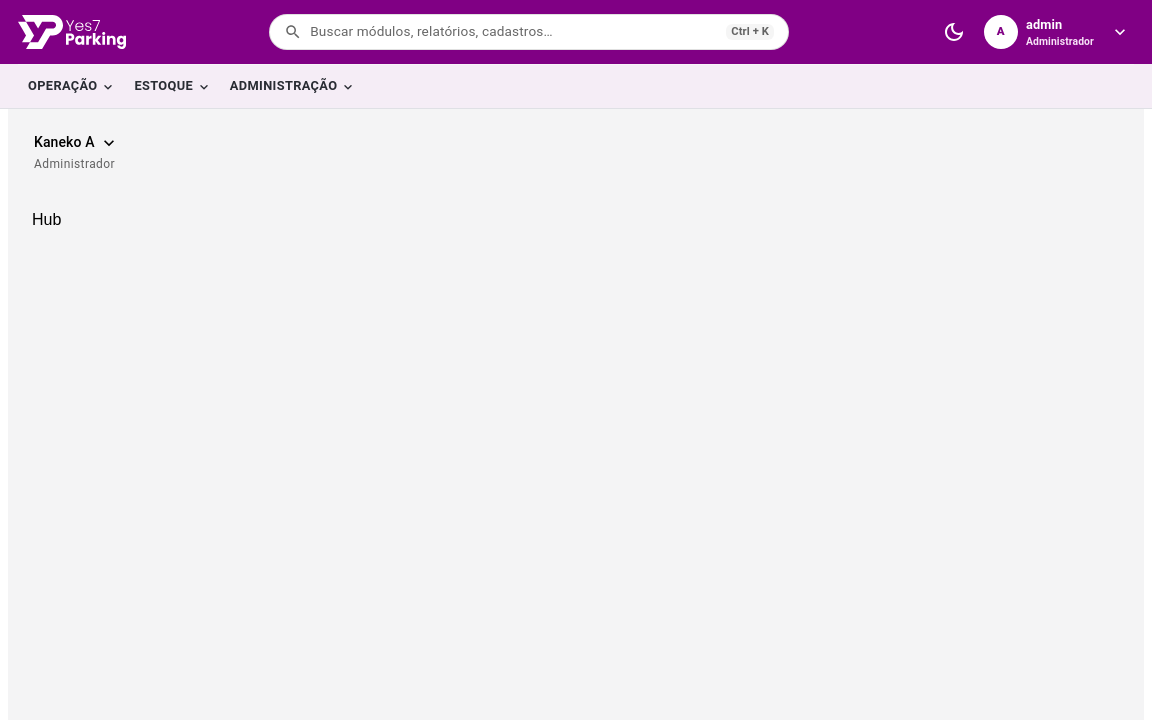
AppLayout › mantém o menu Contexto operacional acima do cabeçalho
Step 1. Click the button with aria-label "Contexto operacional" → (76, 154), box top-left (24, 124), bottom-right (129, 183)
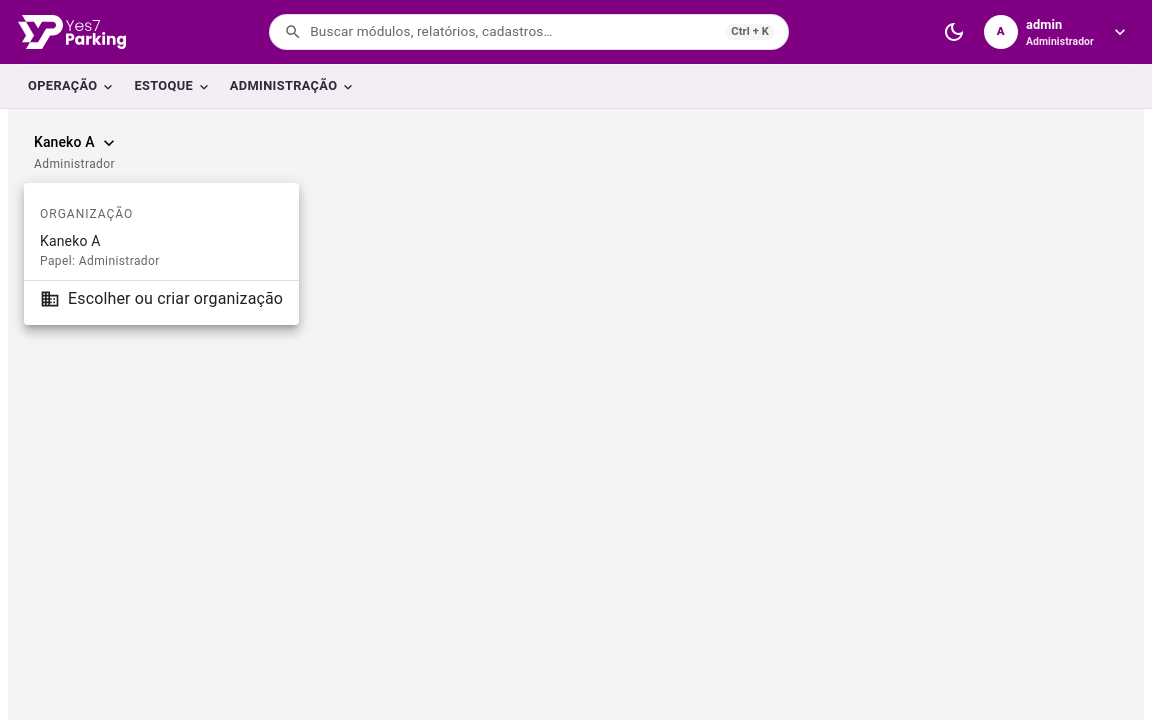
Expected: the element that starts with "Organização" is shown
Expected: the menu item "Escolher ou criar organização" is shown, top-left (40, 289), bottom-right (283, 309)
Step 2. Press Escape in the menu, box top-left (24, 183), bottom-right (299, 325)
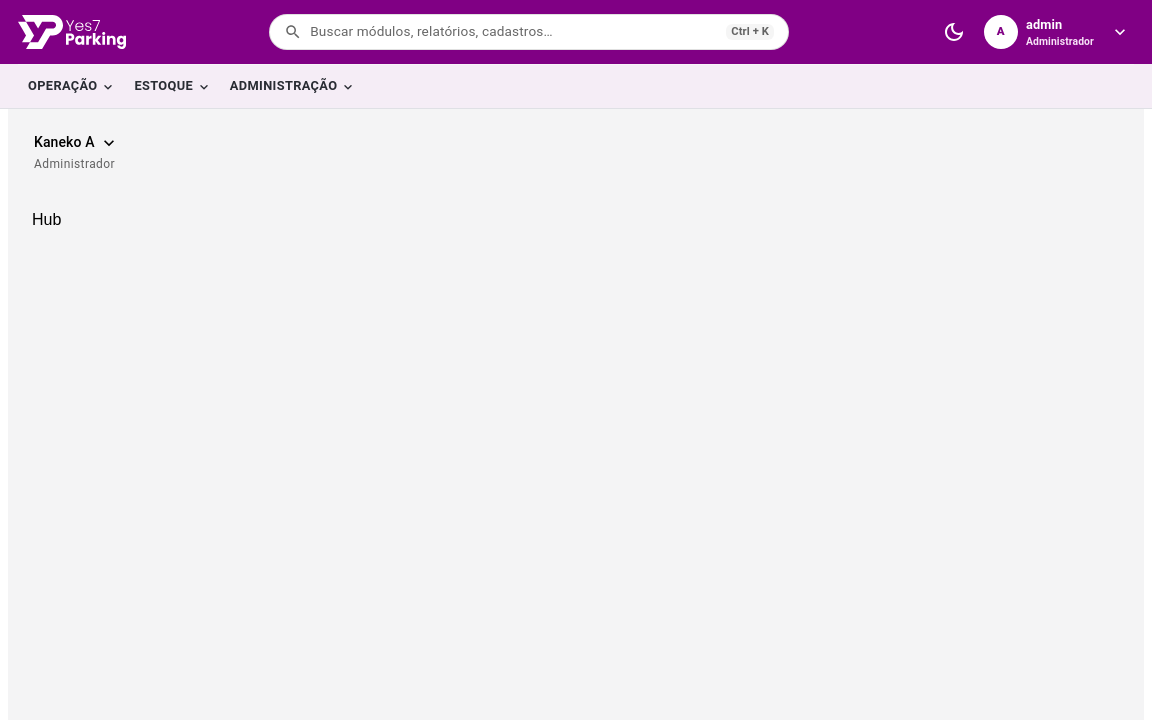
Expected: the menu is gone
